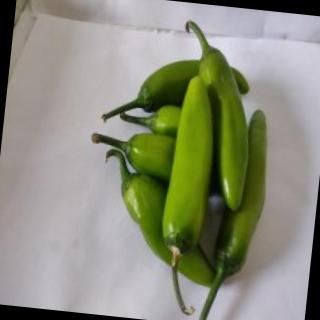Cabai Hijau: (152, 71, 224, 320), (194, 103, 275, 320)
